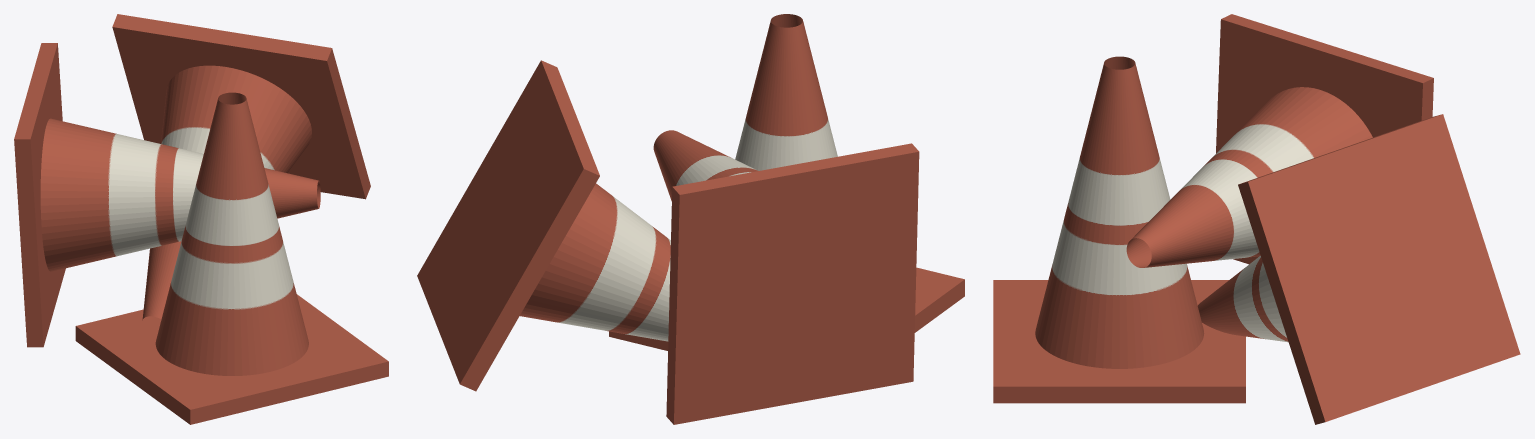
Rendered from ld_cones_1 (2).fbx.
3 renders of one model, left to right at view 1: azimuth 30°, elevation 25°; view 2: azimuth 150°, elevation 25°; view 3: azimuth 270°, elevation 25°, orthographic. The views are drawn at different scales.
Visible parts, largest first — view 1: Cone.004; view 2: Cone.004; view 3: Cone.004.
Part boxes in pixels (box(x1,y1,x2,y2)): Cone.004: box(14, 14, 388, 424); Cone.004: box(417, 14, 964, 424); Cone.004: box(993, 14, 1520, 424).
Bounding box in the file's own units: 325 × 202 × 337.
